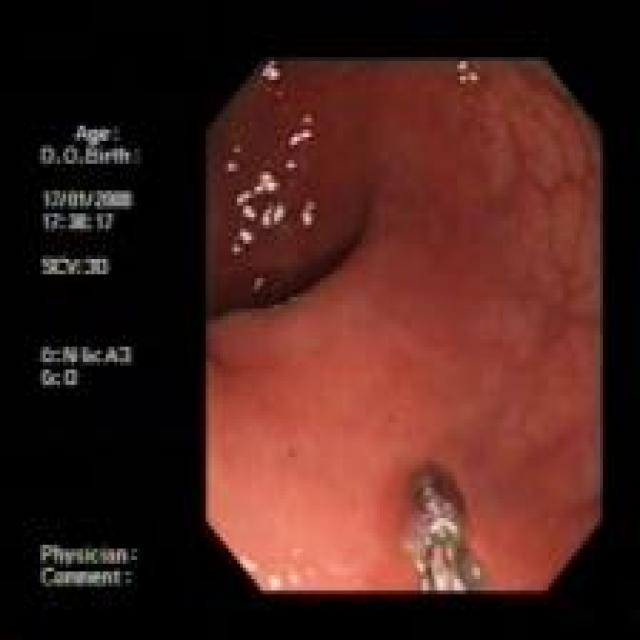color misalignment: (32, 108, 148, 592)
contrast: (210, 239, 364, 330)
instrument: (399, 460, 485, 590)
specularity: (286, 113, 313, 149), (229, 221, 254, 258), (232, 188, 258, 223), (252, 166, 279, 199), (258, 200, 285, 230), (301, 197, 319, 231), (456, 60, 478, 84), (435, 573, 462, 589), (263, 62, 281, 83), (221, 160, 238, 176), (251, 274, 262, 291), (269, 576, 279, 587)
